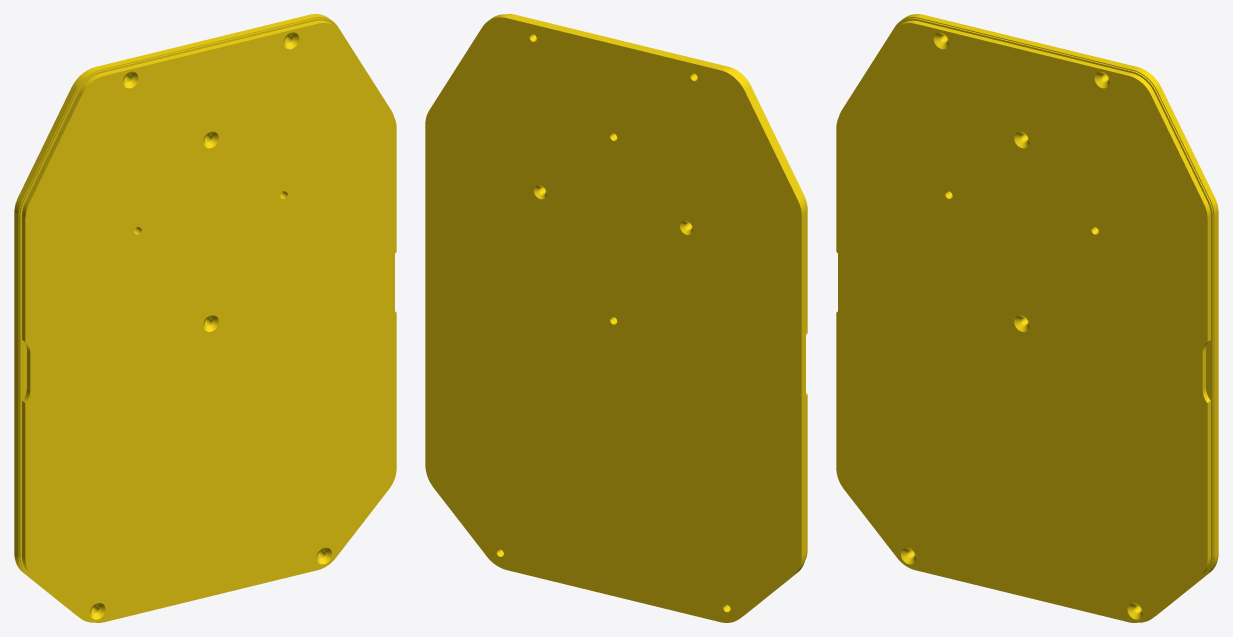
The model's file is VS1_SIMPLE_001_vspin_baseplate.gltf.
3 views of the same model, side by side, from view 1: azimuth 30°, elevation 25°; view 2: azimuth 150°, elevation 25°; view 3: azimuth 330°, elevation 25° (orthographic).
Visible parts, largest first — view 1: mesh51, mesh50, mesh6, mesh33, mesh10, mesh69, mesh8, mesh38, mesh61, mesh67; view 2: mesh2, mesh6, mesh10, mesh8; view 3: mesh51, mesh50, mesh14, mesh33, mesh10, mesh69, mesh12, mesh46, mesh53, mesh71.
Part boxes in pixels (x1,y1,x2,y2): mesh51: [25, 23, 396, 622]; mesh50: [20, 18, 394, 622]; mesh6: [14, 213, 18, 556]; mesh33: [18, 17, 393, 622]; mesh10: [96, 15, 312, 69]; mesh69: [101, 21, 317, 75]; mesh8: [18, 88, 75, 199]; mesh38: [19, 216, 20, 556]; mesh61: [22, 401, 25, 558]; mesh67: [25, 92, 81, 203]; mesh2: [425, 17, 801, 622]; mesh6: [801, 213, 805, 556]; mesh10: [507, 15, 723, 69]; mesh8: [745, 88, 801, 200]; mesh51: [836, 23, 1207, 622]; mesh50: [838, 18, 1212, 622]; mesh14: [1214, 213, 1218, 556]; mesh33: [839, 17, 1214, 622]; mesh10: [920, 15, 1136, 69]; mesh69: [915, 21, 1131, 75]; mesh12: [1157, 88, 1214, 199]; mesh46: [1212, 216, 1213, 556]; mesh53: [1207, 401, 1210, 558]; mesh71: [1151, 92, 1207, 203].
Bounding box in the file's own units: 0.327 × 0.4582 × 0.0127.
